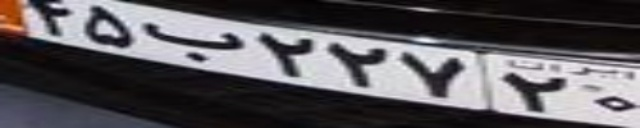0: (591, 93, 637, 113)
2: (498, 69, 571, 114), (255, 32, 318, 78), (327, 39, 386, 88)
4: (24, 0, 72, 37)
5: (80, 4, 133, 49)
7: (399, 49, 465, 99)
be: (140, 21, 244, 64)
